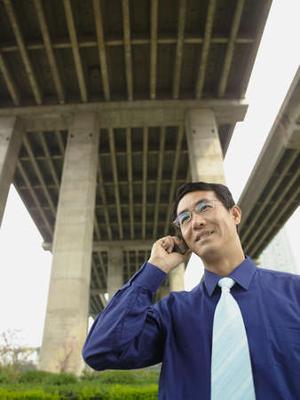person: (83, 181, 300, 399)
